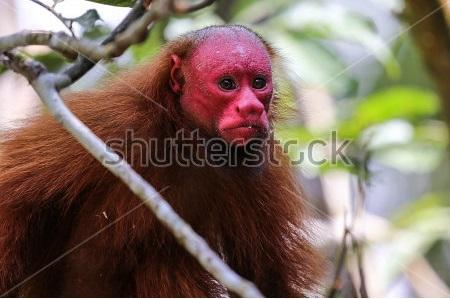monkey: (0, 26, 334, 299)
